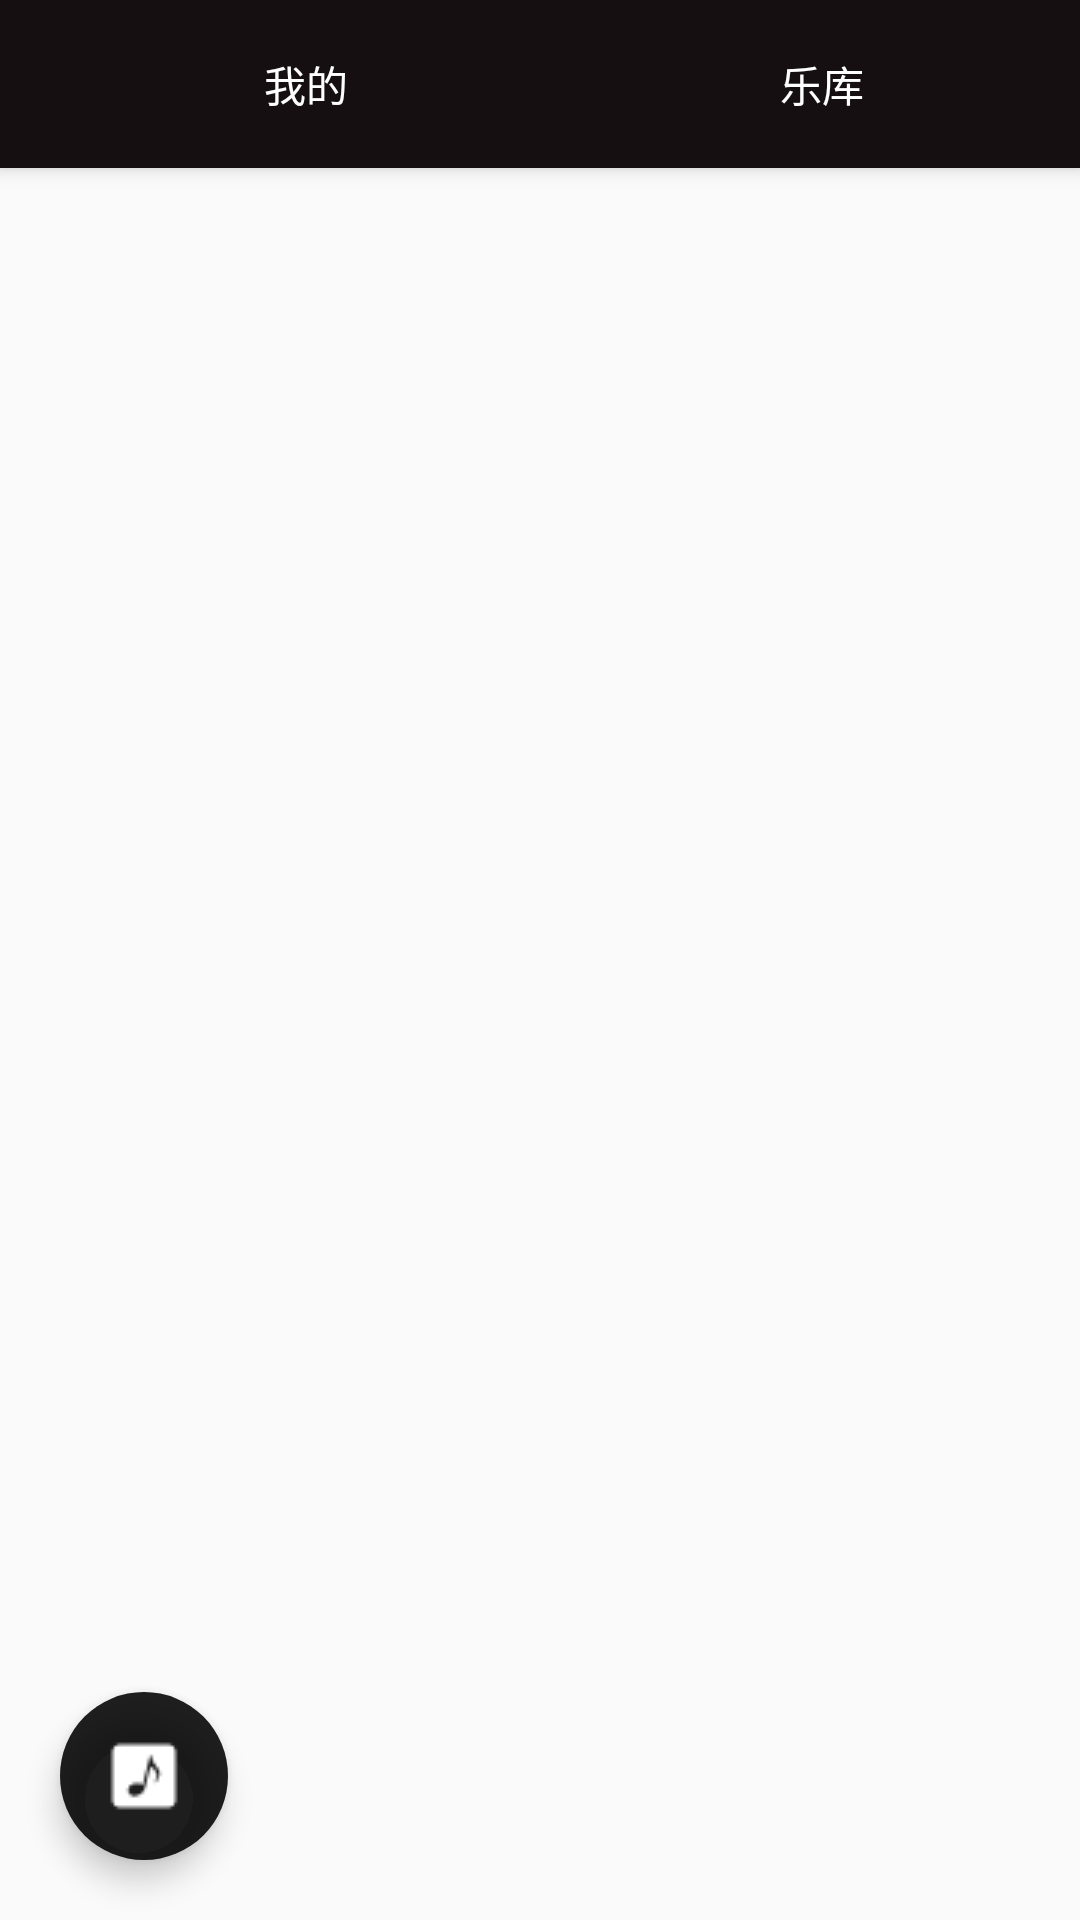

Where to tap for icons on this 1080px×1920px app screen, as point (x, y):
music: point (144, 1776)
